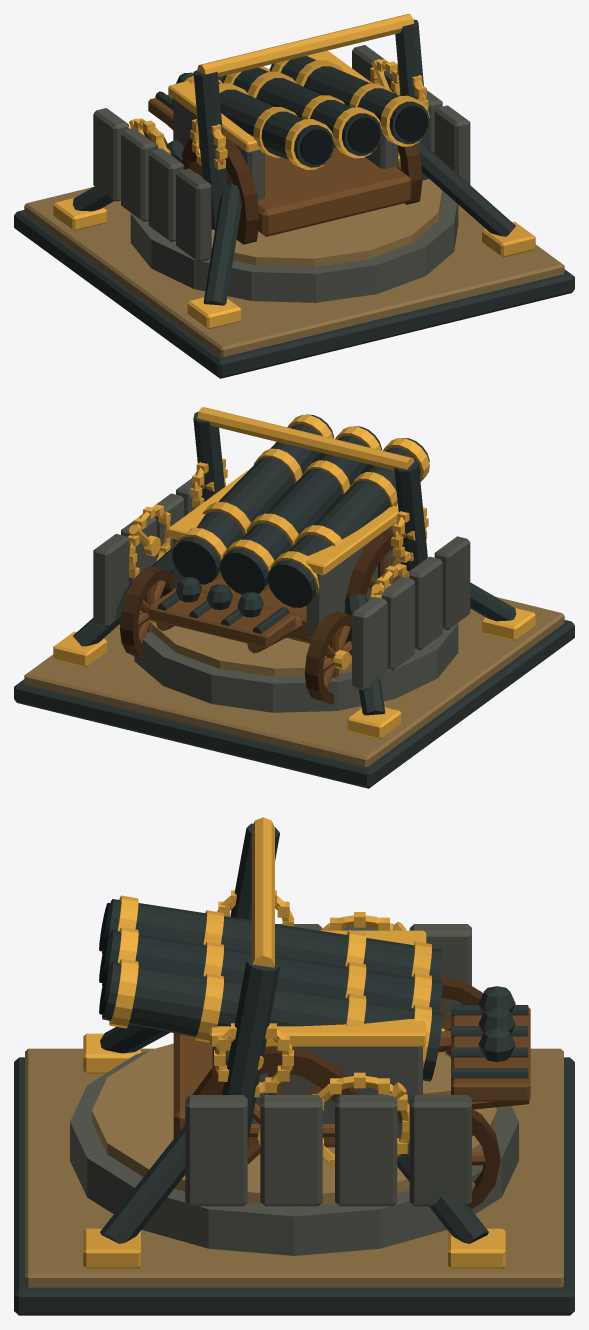
The picture shows the model from 3 angles, top to bottom: view 1: azimuth 30°, elevation 25°; view 2: azimuth 150°, elevation 25°; view 3: azimuth 270°, elevation 25°; orthographic projection. The views are drawn at different scales.
Visible parts, largest first — view 1: cannon_level10_structure, cannon_level10_metal; view 2: cannon_level10_structure, cannon_level10_metal; view 3: cannon_level10_structure, cannon_level10_metal.
Part boxes in pixels (x1,y1,x2,y2): cannon_level10_structure: (14,19,574,378); cannon_level10_metal: (53,14,535,329); cannon_level10_structure: (14,411,574,788); cannon_level10_metal: (53,407,535,739); cannon_level10_structure: (14,823,574,1315); cannon_level10_metal: (83,817,505,1268).
Size of the model in its own units: 3.6 by 2.22 by 3.6.
